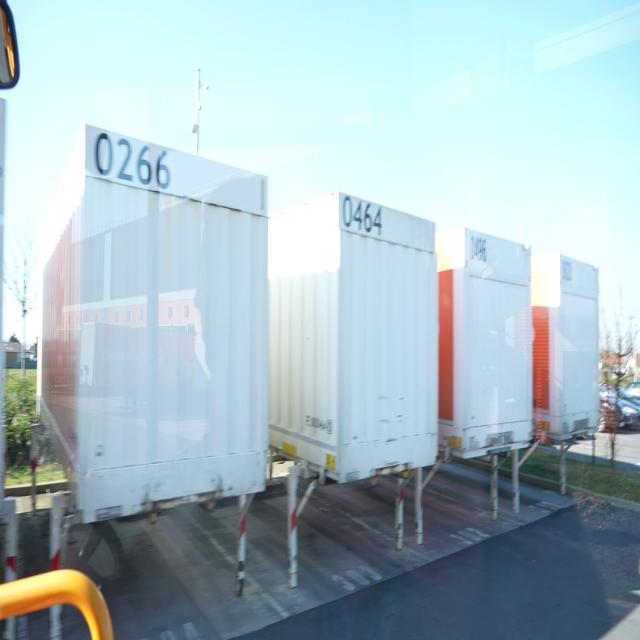Code: (92, 122, 173, 200), (339, 186, 385, 242)
